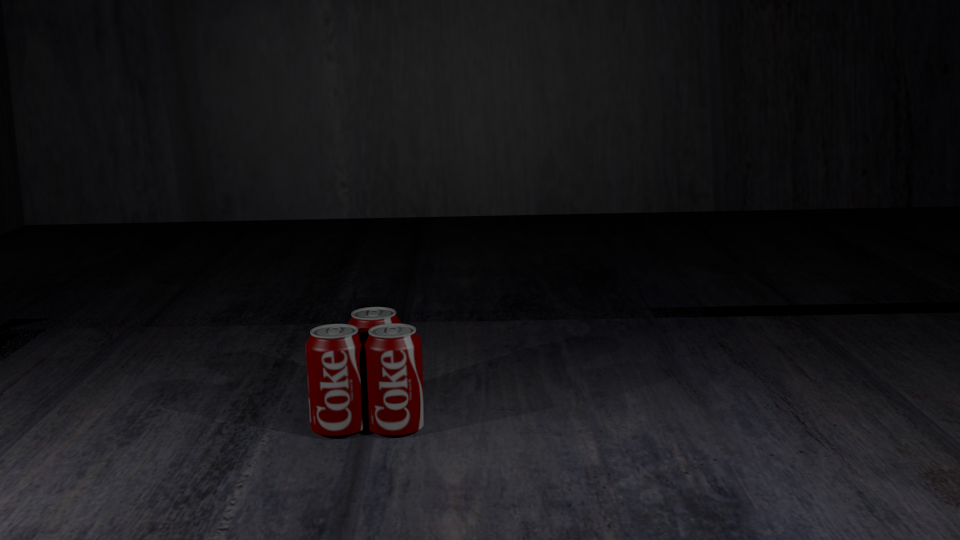cola_can: (306, 324, 365, 433), (364, 324, 422, 431), (347, 307, 400, 410)
